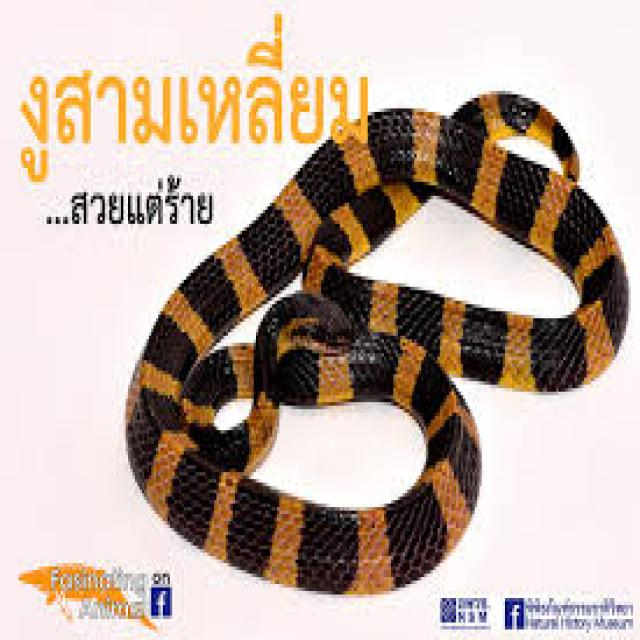Venomous: (255, 298, 423, 411)
